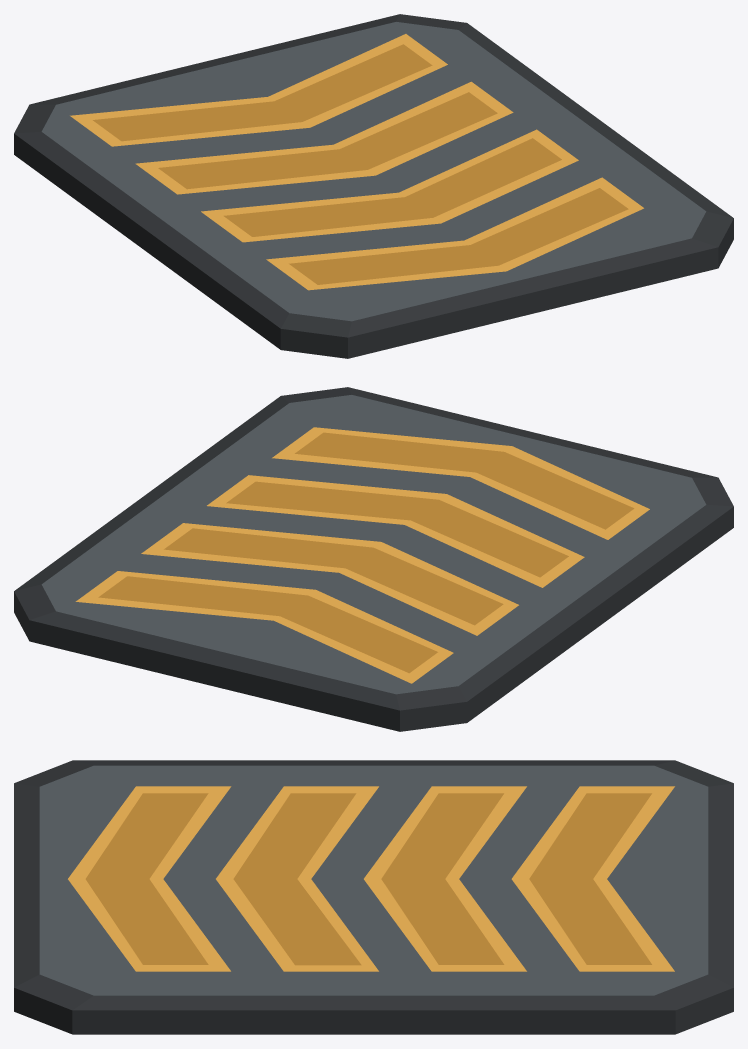
The model's file is SM_Prop_BoostPad_01.fbx.
3 views of the same model, one above another, from view 1: azimuth 30°, elevation 25°; view 2: azimuth 150°, elevation 25°; view 3: azimuth 270°, elevation 25° (orthographic). The views are drawn at different scales.
Visible parts, largest first — view 1: SM_Prop_BoostPad_01; view 2: SM_Prop_BoostPad_01; view 3: SM_Prop_BoostPad_01.
Boxes of the visible parts, box(x1,y1,x2,y2) form: SM_Prop_BoostPad_01: box(14, 14, 733, 358); SM_Prop_BoostPad_01: box(14, 387, 733, 731); SM_Prop_BoostPad_01: box(14, 760, 733, 1034).
Bounding box in the file's own units: 129 × 6.95 × 157.
